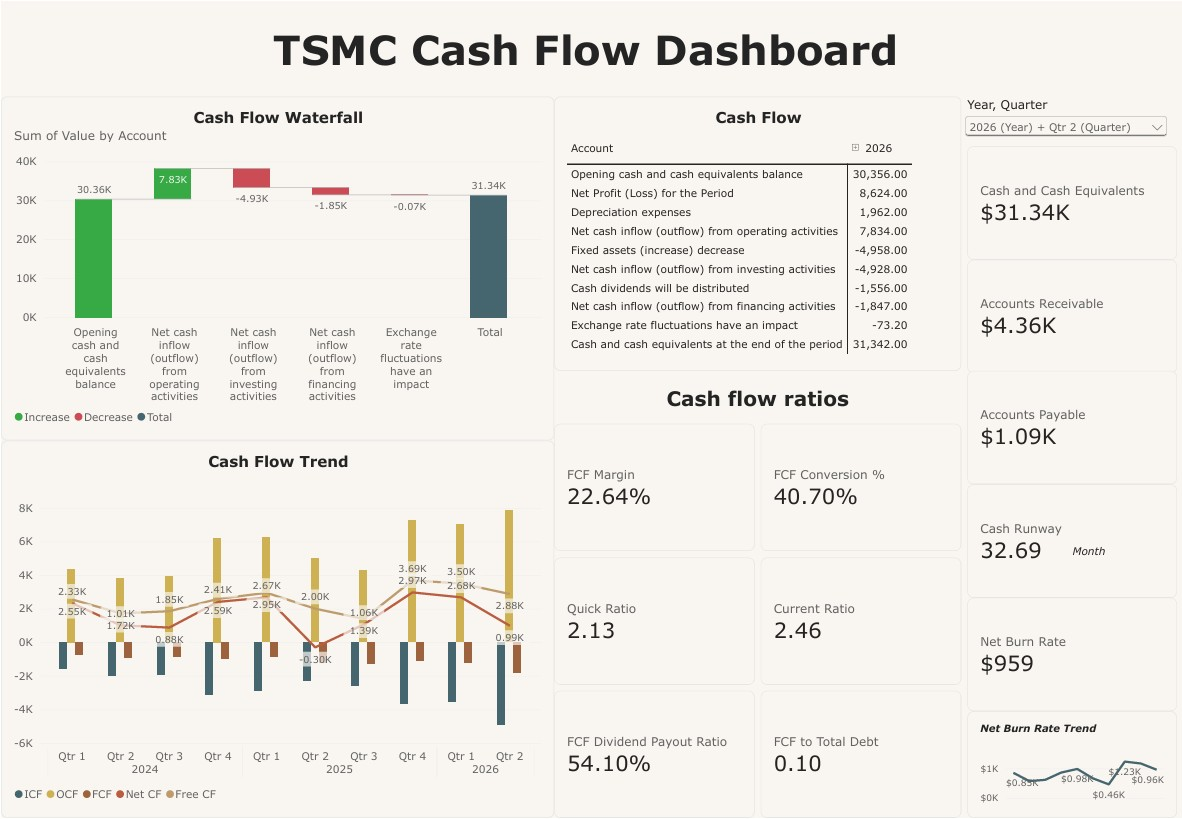

The page's visual inventory and layout, read from the dashboard file:
{"tool":"powerbi","page":{"name":"CF","canvas":[1920,1080],"ordinal":1},"visuals":[{"type":"lineClusteredColumnComboChart","title":"Cash Flow Trend","fields":{"Category":["Date_Table.Date.Variation.Date Hierarchy.Year","Date_Table.Date.Variation.Date Hierarchy.Quarter"],"Y":["2330 CF.ICF","2330 CF.OCF","2330 CF.FCF"],"Y2":["2330 CF.Net CF","2330 CF.Free CF"]},"box":[0,580.8,730.8,498.8],"z":0},{"type":"waterfallChart","title":"Cash Flow Waterfall","fields":{"Category":["2330 CF_GL number.Account"],"Y":["Sum(2330 CF.Value)"]},"box":[0,125.6,730.8,455.2],"z":1000},{"type":"cardVisual","fields":{"Data":["2330 CF.FCF Margin","2330 CF.CF Conversion %"]},"box":[731,559,538,168],"z":2000},{"type":"slicer","fields":{"Values":["Date_Table.Date.Variation.Date Hierarchy.Year","Date_Table.Date.Variation.Date Hierarchy.Quarter"]},"box":[1269,126,277.1,74.3],"z":3000},{"type":"pivotTable","title":"Cash Flow","fields":{"Columns":["Date_Table.Date.Variation.Date Hierarchy.Year","Date_Table.Date.Variation.Date Hierarchy.Quarter"],"Rows":["2330 CF_GL number.Account"],"Values":["Sum(2330 CF.Value)"]},"box":[731,126,538,363],"z":4000},{"type":"textbox","box":[0,31,1546,95],"z":5000},{"type":"cardVisual","fields":{"Data":["2330 BS.Quick Ratio","2330 BS.Current Ratio"]},"box":[731,736,538,168],"z":6000},{"type":"cardVisual","fields":{"Data":["2330 CF.FCF Dividend Payout Ratio","2330 CF.FCF to Total Debt"]},"box":[731,912,538,168],"z":7000},{"type":"textbox","box":[731,508,538,42],"z":8000},{"type":"cardVisual","fields":{"Data":["2330 BS.Cash and cash equivalent"]},"box":[1277,192,277,150],"z":9000},{"type":"cardVisual","fields":{"Data":["2330 BS.Accounts receivable"]},"box":[1277,342,277,150],"z":10000},{"type":"cardVisual","fields":{"Data":["2330 BS.Accounts payable"]},"box":[1277,489,277,150],"z":11000},{"type":"cardVisual","fields":{"Data":["2330 CF.Net Burn Rate"]},"box":[1277,789,277,150],"z":12000},{"type":"cardVisual","fields":{"Data":["2330 CF.Cashrunway"]},"box":[1277,639,277,150],"z":13000},{"type":"lineChart","title":"Net Burn Rate Trend","fields":{"Category":["Date_Table.Date.Variation.Date Hierarchy.Year","Date_Table.Date.Variation.Date Hierarchy.Quarter"],"Y":["2330 CF.Net Burn Rate"]},"box":[1277,939,277,141],"z":13001},{"type":"textbox","box":[1416,719,92,34],"z":13002}]}

Visuals, with their boxes on the page's 1920x1080 design canvas (x1, y1, x2, y2). These are canvas units, not pixel positions in the 1182x819 screenshot, which may show the page scaled, cropped or inside an application window:
"Cash Flow Trend" lineClusteredColumnComboChart: bbox(0, 581, 731, 1080)
"Cash Flow Waterfall" waterfallChart: bbox(0, 126, 731, 581)
cardVisual - 2330 CF.FCF Margin x 2330 CF.CF Conversion %: bbox(731, 559, 1269, 727)
slicer - Date_Table.Date.Variation.Date Hierarchy.Year x Date_Table.Date.Variation.Date Hierarchy.Quarter: bbox(1269, 126, 1546, 200)
"Cash Flow" pivotTable: bbox(731, 126, 1269, 489)
textbox: bbox(0, 31, 1546, 126)
cardVisual - 2330 BS.Quick Ratio x 2330 BS.Current Ratio: bbox(731, 736, 1269, 904)
cardVisual - 2330 CF.FCF Dividend Payout Ratio x 2330 CF.FCF to Total Debt: bbox(731, 912, 1269, 1080)
textbox: bbox(731, 508, 1269, 550)
cardVisual - 2330 BS.Cash and cash equivalent: bbox(1277, 192, 1554, 342)
cardVisual - 2330 BS.Accounts receivable: bbox(1277, 342, 1554, 492)
cardVisual - 2330 BS.Accounts payable: bbox(1277, 489, 1554, 639)
cardVisual - 2330 CF.Net Burn Rate: bbox(1277, 789, 1554, 939)
cardVisual - 2330 CF.Cashrunway: bbox(1277, 639, 1554, 789)
"Net Burn Rate Trend" lineChart: bbox(1277, 939, 1554, 1080)
textbox: bbox(1416, 719, 1508, 753)
